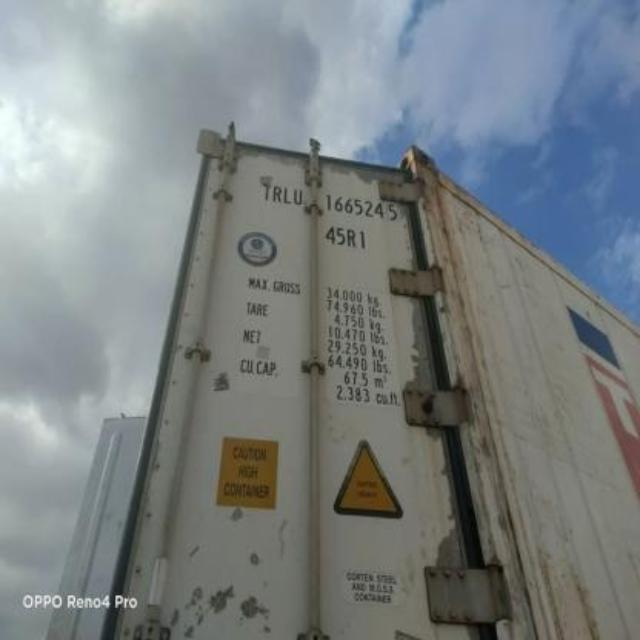1: (326, 188, 332, 215)
2: (363, 191, 373, 221)
4: (373, 190, 383, 226)
5: (386, 191, 399, 223), (353, 190, 363, 220)
6: (332, 186, 344, 216), (346, 191, 352, 215)
L: (281, 182, 293, 214)
R: (270, 176, 282, 208)
T: (260, 176, 270, 208)
U: (294, 177, 302, 213)
